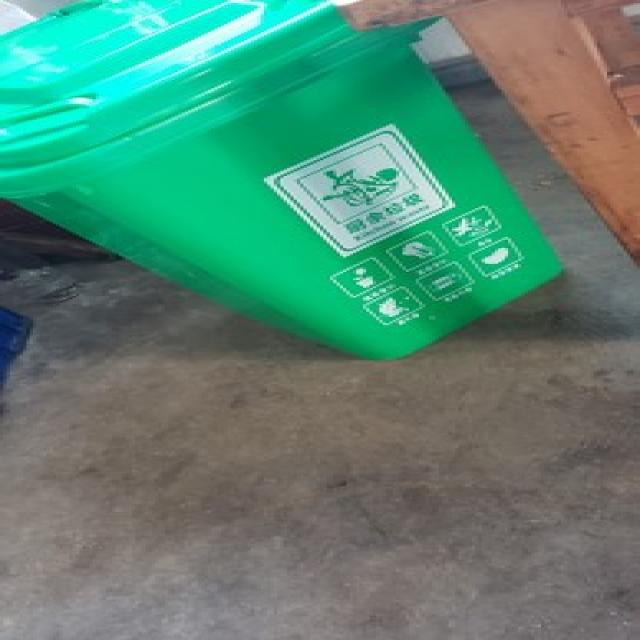ash bin: (3, 0, 564, 357)
